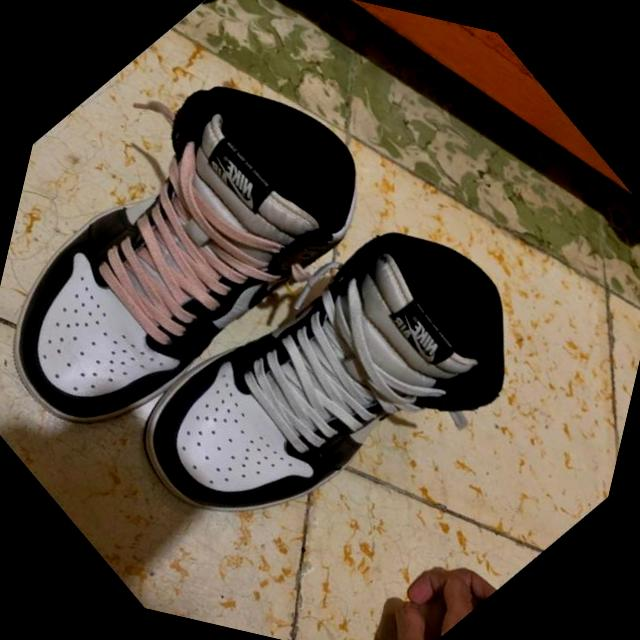nike_original_jordan: (86, 130, 581, 640), (0, 0, 423, 515)
